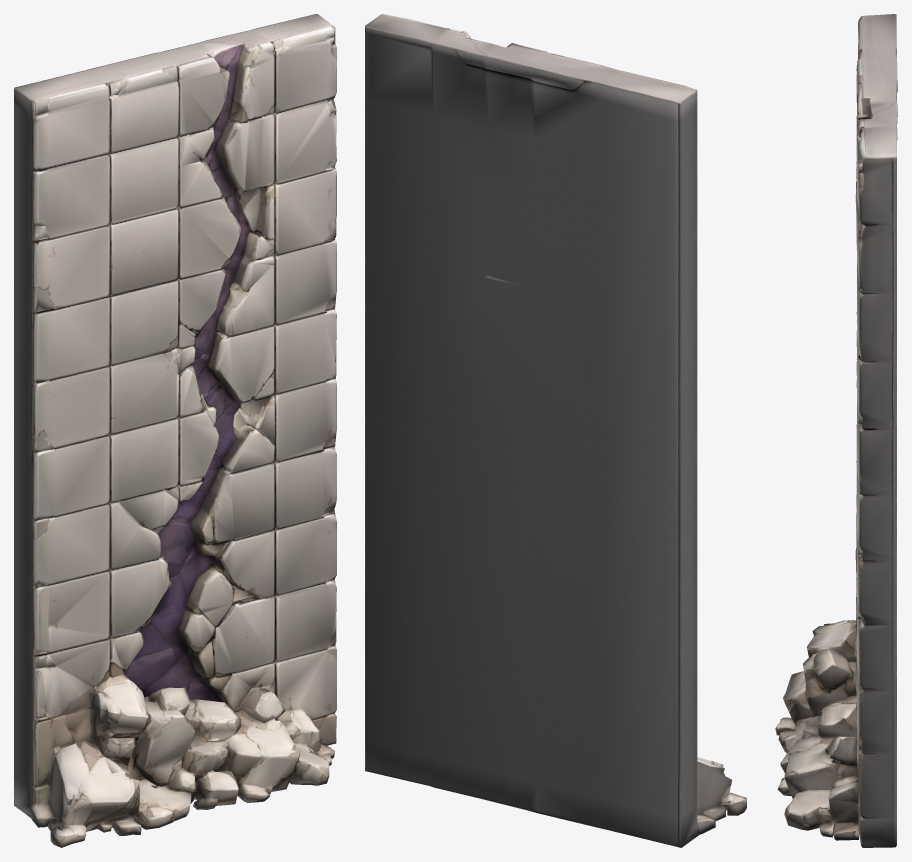
File: overlay_1.fbx
3 views of the same model, side by side, from view 1: azimuth 30°, elevation 25°; view 2: azimuth 150°, elevation 25°; view 3: azimuth 270°, elevation 25° (orthographic). The views are drawn at different scales.
Parts seen in each view (by area): view 1: overlay_1; view 2: overlay_1; view 3: overlay_1.
Part boxes in pixels (x1,y1,x2,y2): overlay_1: (14,14,336,847); overlay_1: (365,14,746,847); overlay_1: (775,14,897,847).
Size of the model in its own units: 1.82 by 3.95 by 0.6338.
